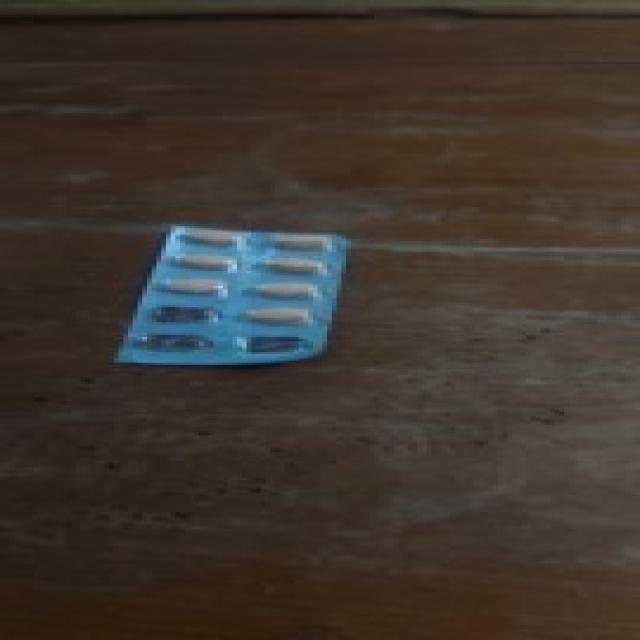Cacat: (120, 218, 356, 368)
Kemasan: (142, 304, 218, 359), (237, 331, 321, 356)
